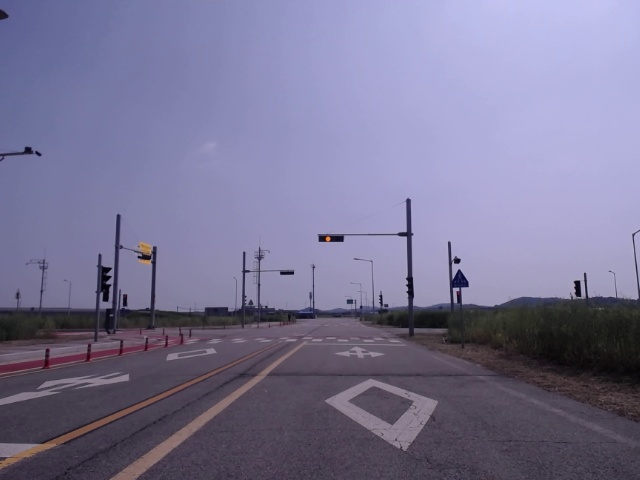orange_4: (318, 234, 346, 244)
